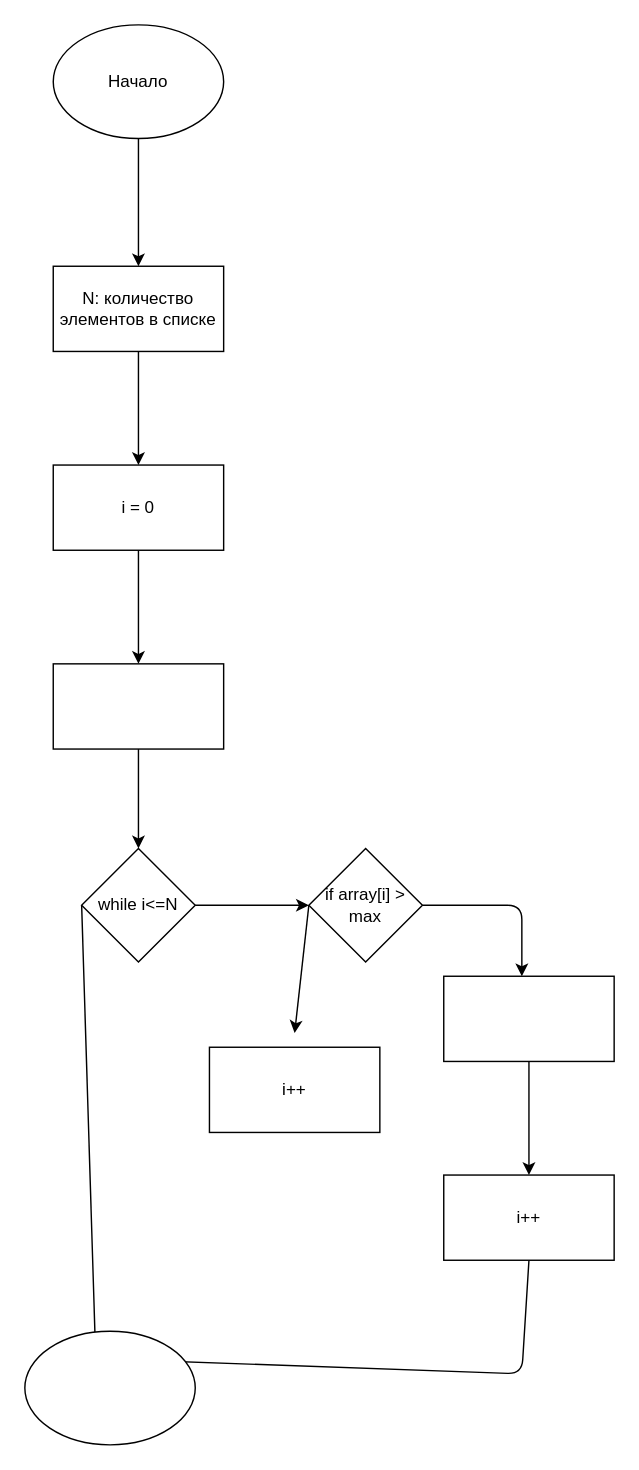
The diagram is 639 pixels wide and 1470 high, and some of its shapes have lost their labels. Each missing label, with the centre of its shape:
"max = array[0]" goes at pixel 138 705.
"max = array[i]" goes at pixel 528 1018.
"Конец" goes at pixel 109 1387.
